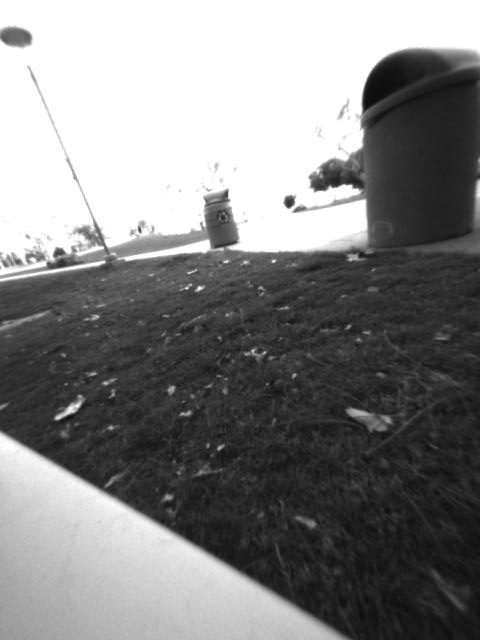trashcan: (353, 45, 480, 249)
